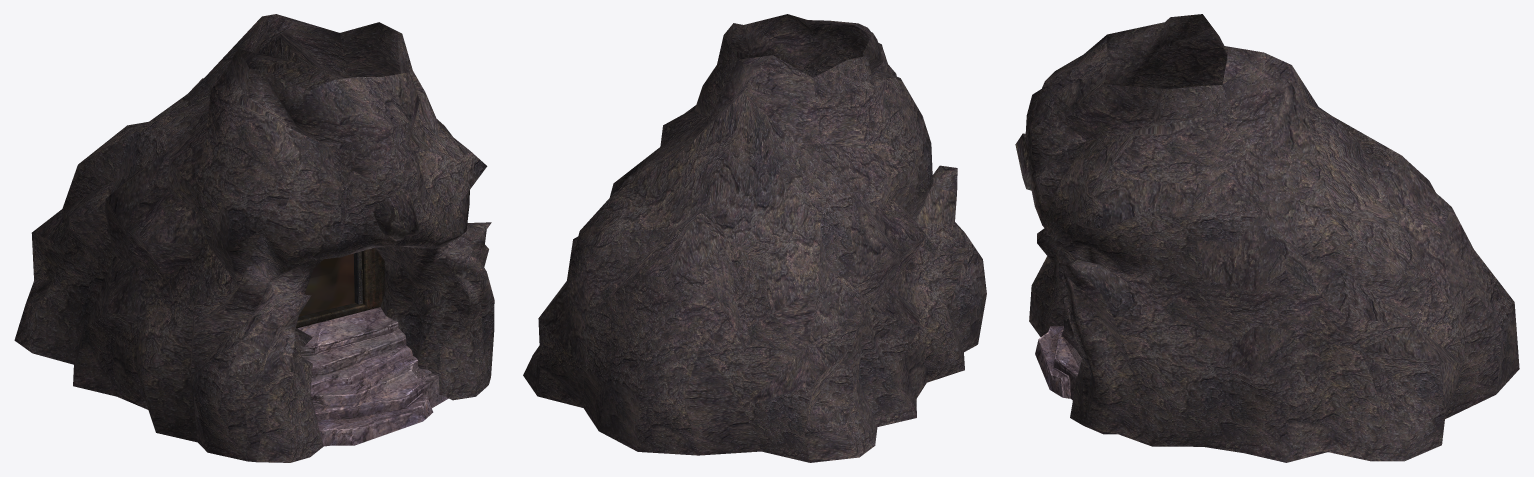
Rendered from flame_dg_ingate.fbx.
3 views of the same model, side by side, from view 1: azimuth 30°, elevation 25°; view 2: azimuth 150°, elevation 25°; view 3: azimuth 270°, elevation 25° (orthographic). The views are drawn at different scales.
Visible parts, largest first — view 1: flame_dg_ingate; view 2: flame_dg_ingate; view 3: flame_dg_ingate.
Boxes of the visible parts, bbox=[...] form: flame_dg_ingate: bbox=[14, 14, 494, 462]; flame_dg_ingate: bbox=[523, 14, 986, 462]; flame_dg_ingate: bbox=[1015, 14, 1519, 462].
Size of the model in its own units: 41.45 by 35.56 by 49.13.
